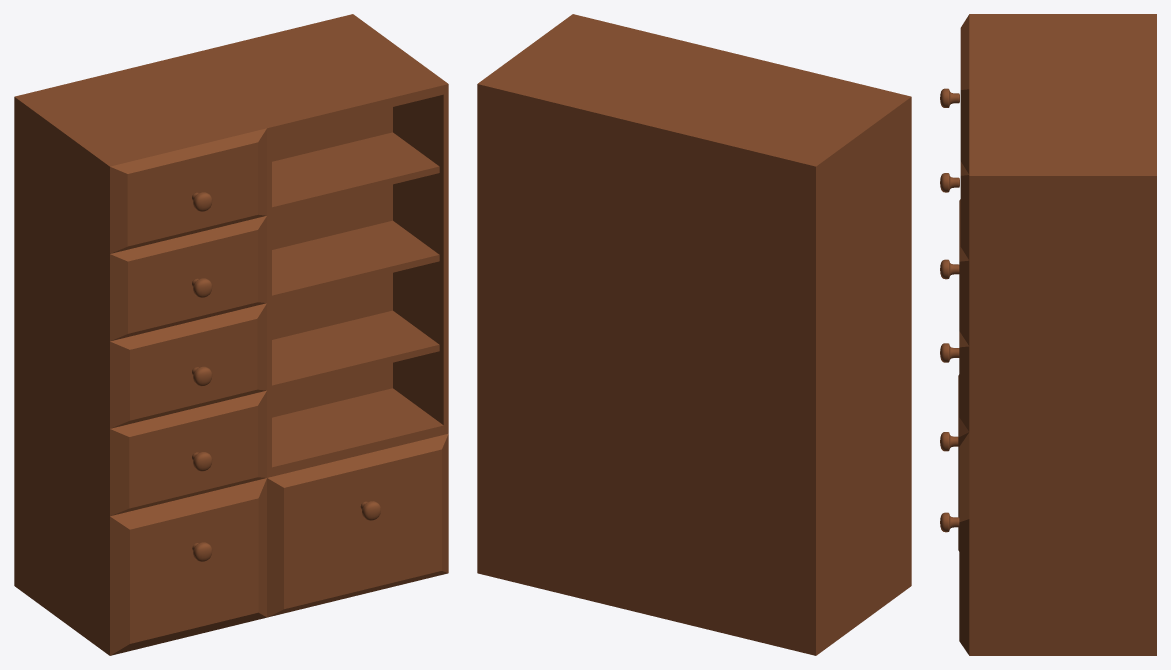
3 renders of one model, left to right at view 1: azimuth 30°, elevation 25°; view 2: azimuth 150°, elevation 25°; view 3: azimuth 270°, elevation 25°, orthographic.
Visible parts, largest first — view 1: cabinet; view 2: cabinet; view 3: cabinet.
Boxes of the visible parts, x1,y1,x2,y2 form: cabinet: [14, 14, 448, 655]; cabinet: [477, 14, 911, 655]; cabinet: [940, 14, 1156, 655].
Bounding box in the file's own units: 409 × 565 × 231.
